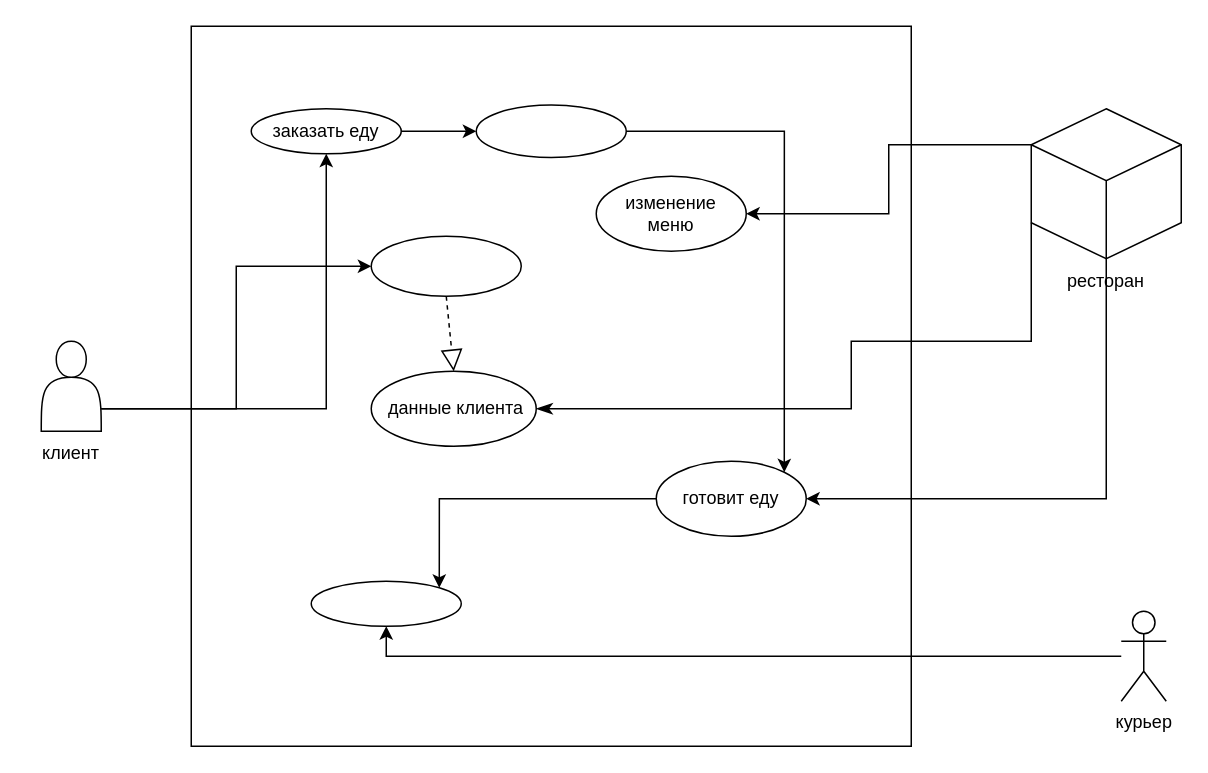
The diagram is 1208 pixels wide and 773 high, and some of its shapes have lost their labels. Here are the shapes that lost their labels. From the top down, the centre of each, then its label:
the point at 550,131: оплатить еду
the point at 445,265: ввод своих данные
the point at 385,603: доставить еду
